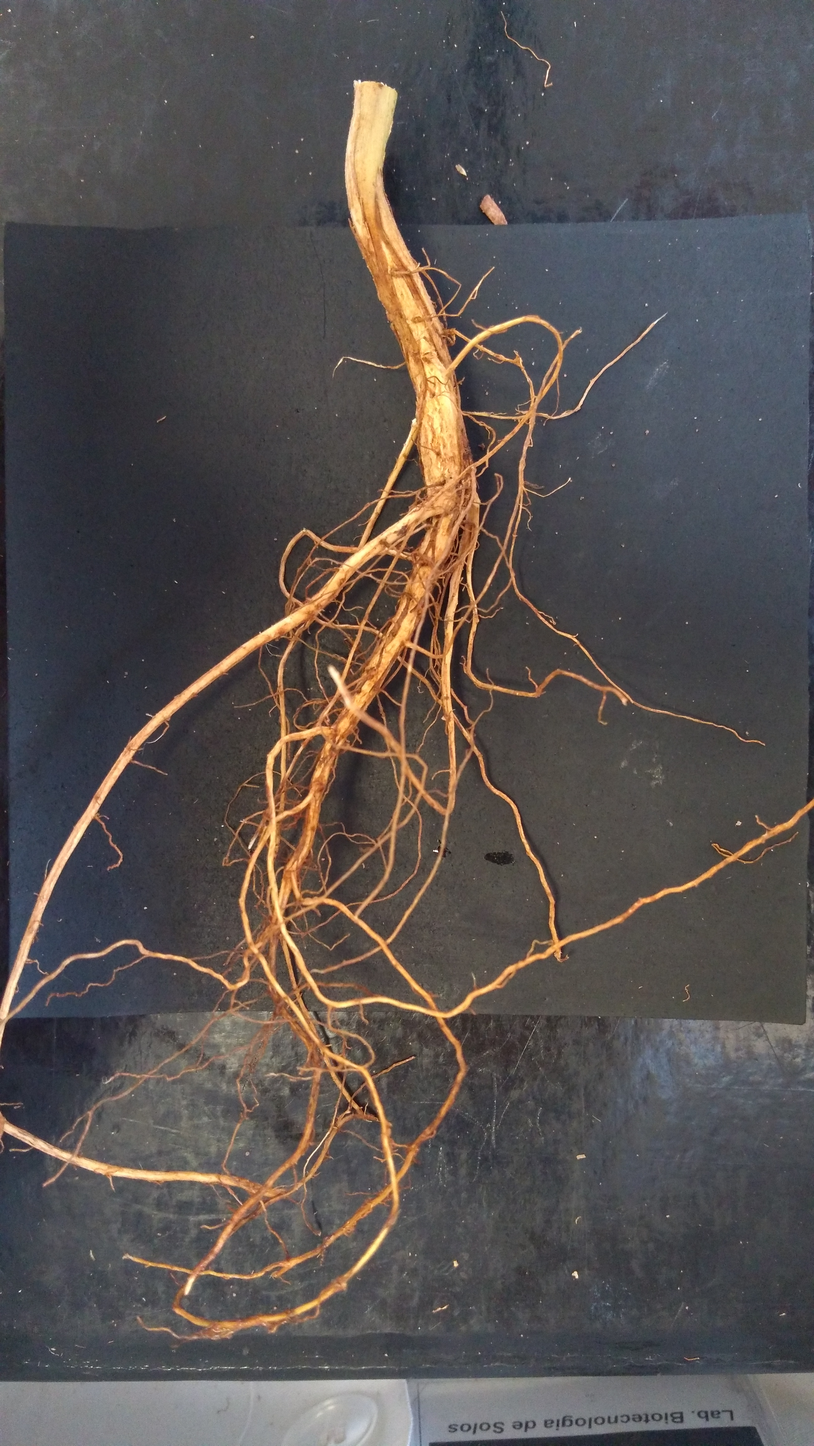nodule: (429, 486, 459, 517), (443, 328, 456, 347), (392, 539, 408, 551), (460, 478, 470, 488), (415, 503, 425, 511), (469, 465, 477, 474), (441, 714, 448, 721), (245, 1151, 250, 1156)
